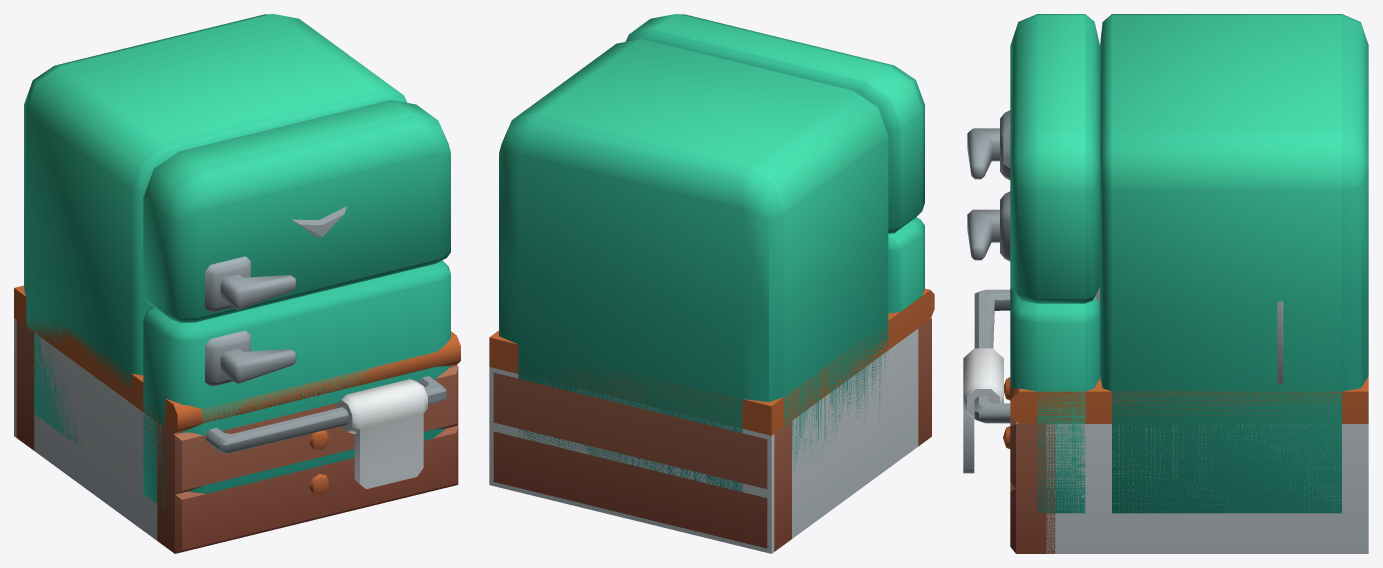
The model's file is kaykit-cafe.glb.
3 renders of one model, left to right at view 1: azimuth 30°, elevation 25°; view 2: azimuth 150°, elevation 25°; view 3: azimuth 270°, elevation 25°, orthographic. The views are drawn at different scales.
Visible parts, largest first — view 1: fridge_A_decorated, kitchencounter_straight_A_decorated, crate_carrots; view 2: fridge_A_decorated, crate_carrots, kitchencounter_straight_A_decorated; view 3: fridge_A_decorated, kitchencounter_straight_A_decorated, crate_carrots.
Boxes of the visible parts, box(x1,y1,x2,y2) form: fridge_A_decorated: box(24, 14, 450, 508); kitchencounter_straight_A_decorated: box(14, 285, 460, 540); crate_carrots: box(16, 320, 458, 553); fridge_A_decorated: box(499, 14, 924, 491); crate_carrots: box(493, 318, 931, 551); kitchencounter_straight_A_decorated: box(489, 288, 934, 553); fridge_A_decorated: box(967, 14, 1368, 513); kitchencounter_straight_A_decorated: box(963, 287, 1368, 553); crate_carrots: box(1010, 416, 1055, 553).
Bounding box in the file's own units: 2.01 × 2.5 × 2.26.
Materials: 7 (7 with a texture image).
